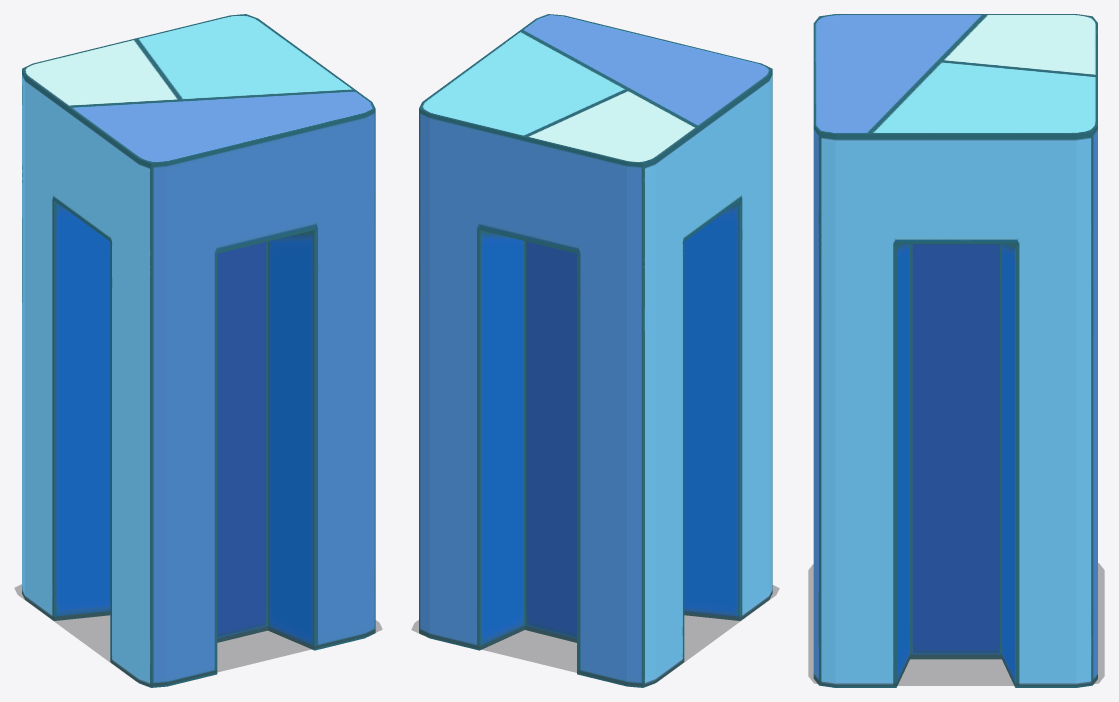
File: IceKingdom_Chair.glb
The picture shows the model from 3 angles, left to right: view 1: azimuth 30°, elevation 25°; view 2: azimuth 150°, elevation 25°; view 3: azimuth 270°, elevation 25°; orthographic projection. The views are drawn at different scales.
Parts seen in each view (by area): view 1: IceKingdom_Chair_01, Chair_Shadow; view 2: IceKingdom_Chair_01, Chair_Shadow; view 3: IceKingdom_Chair_01, Chair_Shadow.
Boxes of the visible parts, box(x1,y1,x2,y2) form: IceKingdom_Chair_01: box(22, 14, 375, 687); Chair_Shadow: box(14, 584, 382, 686); IceKingdom_Chair_01: box(419, 14, 772, 687); Chair_Shadow: box(411, 585, 779, 686); IceKingdom_Chair_01: box(813, 14, 1097, 687); Chair_Shadow: box(808, 563, 1104, 685).
Bounding box in the file's own units: 0.9406 × 1.94 × 0.9406.
Materials: 2 (2 with a texture image).
